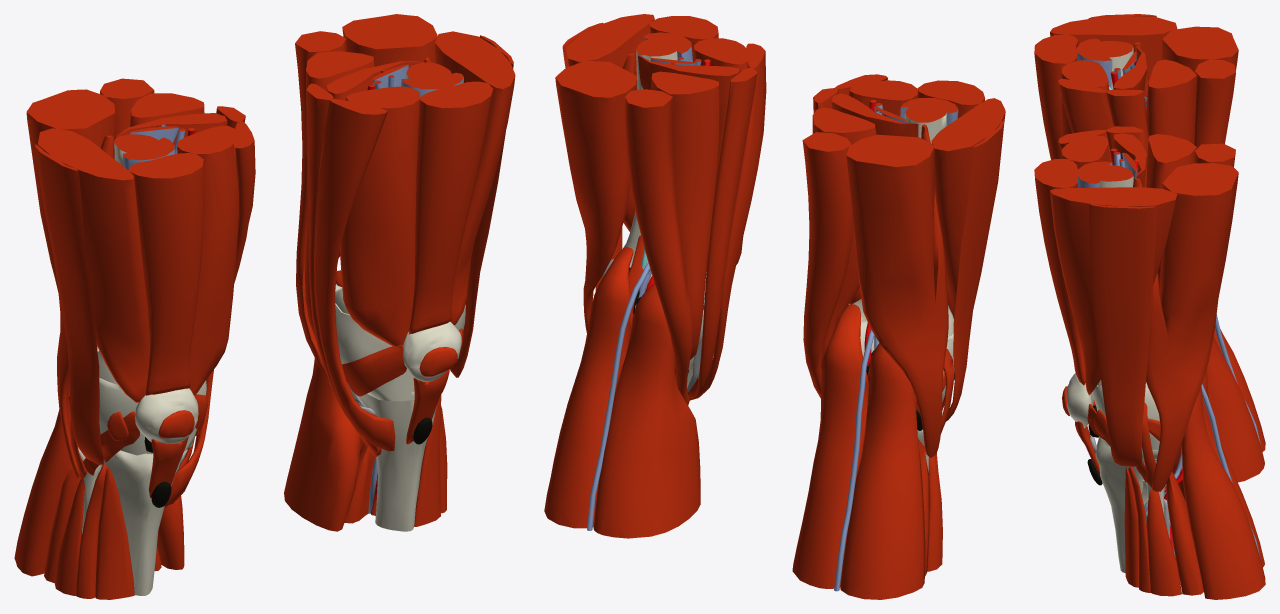
The model's file is podmysecnaia-polost-1702028159.glb.
3 renders of one model, left to right at view 1: azimuth 30°, elevation 25°; view 2: azimuth 150°, elevation 25°; view 3: azimuth 270°, elevation 25°, orthographic. The views are drawn at different scales.
Parts seen in each view (by area): view 1: ноги; view 2: ноги; view 3: ноги.
Boxes of the visible parts, x1,y1,x2,y2 form: ноги: [14, 14, 515, 599]; ноги: [544, 14, 1005, 599]; ноги: [1034, 14, 1265, 599].
Bounding box in the file's own units: 0.3492 × 0.3369 × 0.1754.
